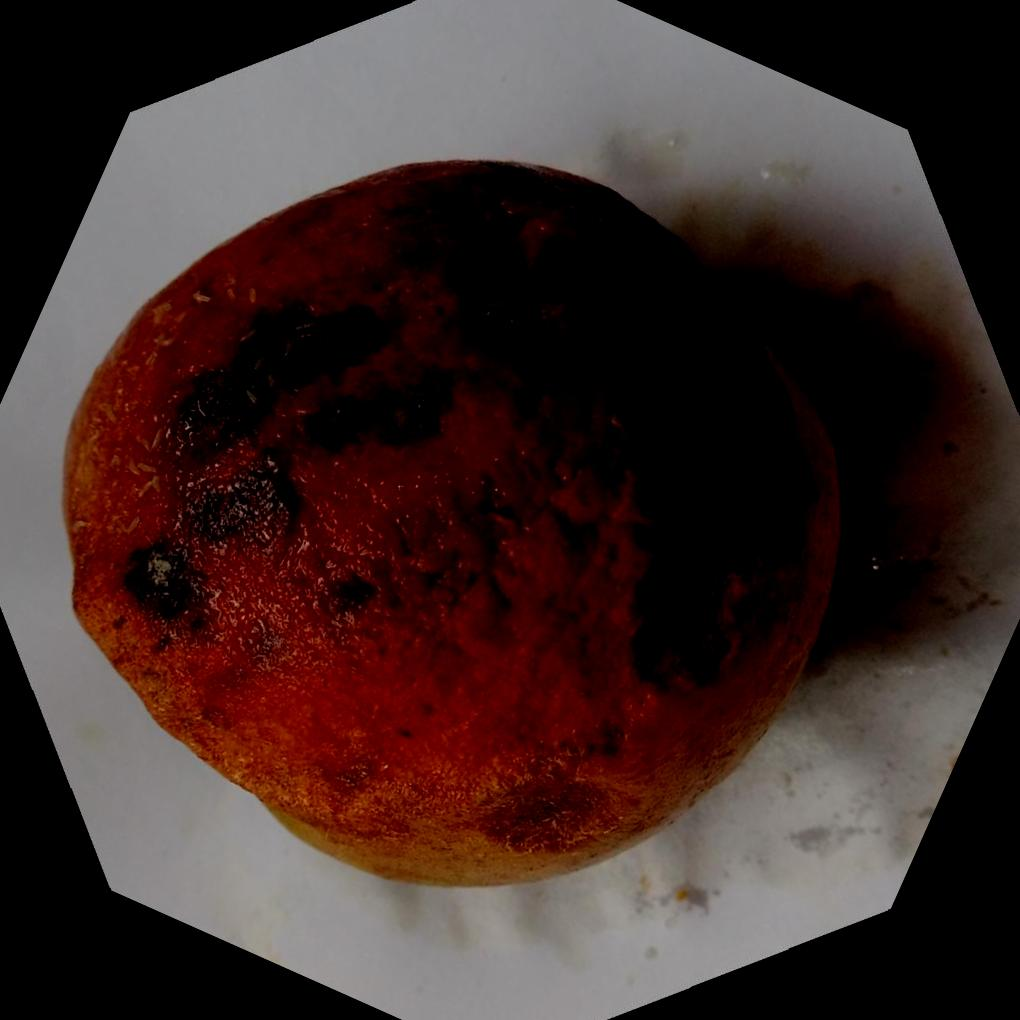FreshOrange: (61, 155, 847, 886)
